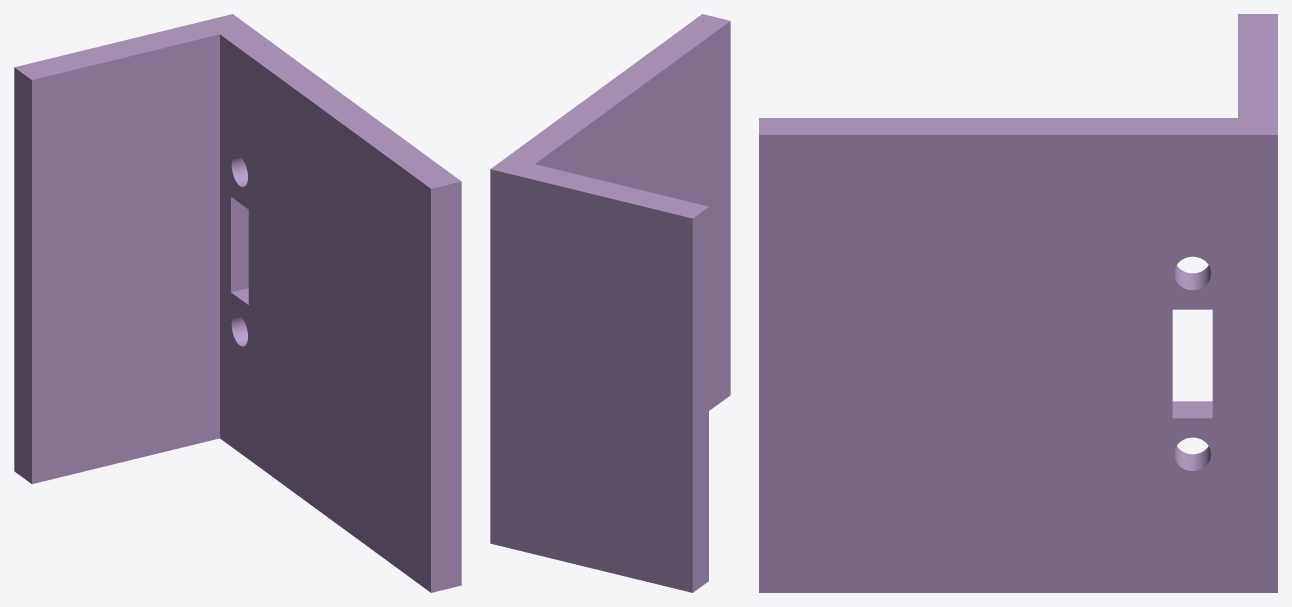
The model's file is usbc_coupon.glb.
3 views of the same model, side by side, from view 1: azimuth 30°, elevation 25°; view 2: azimuth 150°, elevation 25°; view 3: azimuth 270°, elevation 25° (orthographic). The views are drawn at different scales.
Parts seen in each view (by area): view 1: usbc_coupon; view 2: usbc_coupon; view 3: usbc_coupon.
Boxes of the visible parts, left/top/right/bottom form: usbc_coupon: left=14, top=14, right=461, bottom=592; usbc_coupon: left=490, top=14, right=730, bottom=592; usbc_coupon: left=759, top=14, right=1277, bottom=592.
Size of the model in its own units: 21.5 by 38 by 39.
